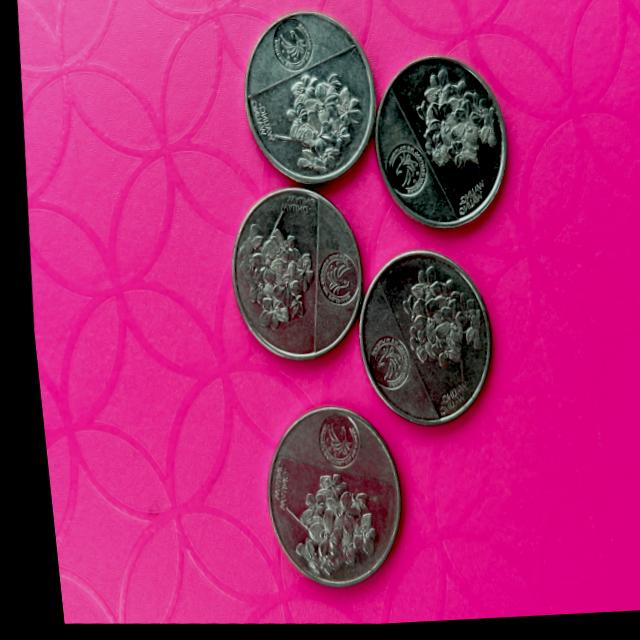1_New_Back: (271, 451, 376, 586), (403, 67, 505, 186), (377, 280, 481, 384), (275, 74, 366, 177), (238, 229, 318, 335)
